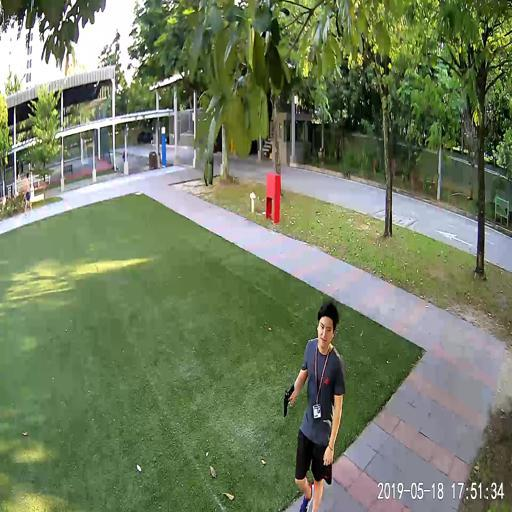Handgun: (281, 383, 293, 417)
